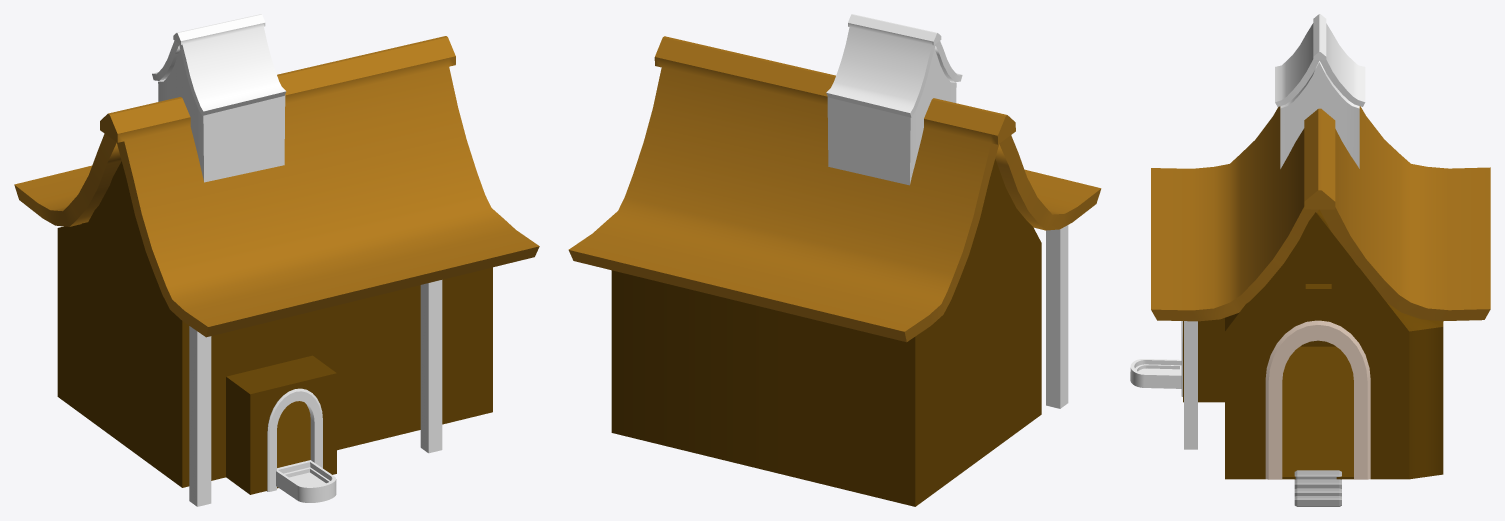
The model's file is Shed.fbx.
The picture shows the model from 3 angles, left to right: view 1: azimuth 30°, elevation 25°; view 2: azimuth 150°, elevation 25°; view 3: azimuth 270°, elevation 25°; orthographic projection. The views are drawn at different scales.
Visible parts, largest first — view 1: pCube45; view 2: pCube45; view 3: pCube45.
Boxes of the visible parts, x1,y1,x2,y2 form: pCube45: (14,14,539,506); pCube45: (568,14,1101,506); pCube45: (1130,14,1490,506).
Size of the model in its own units: 6272 by 7174 by 6311.
